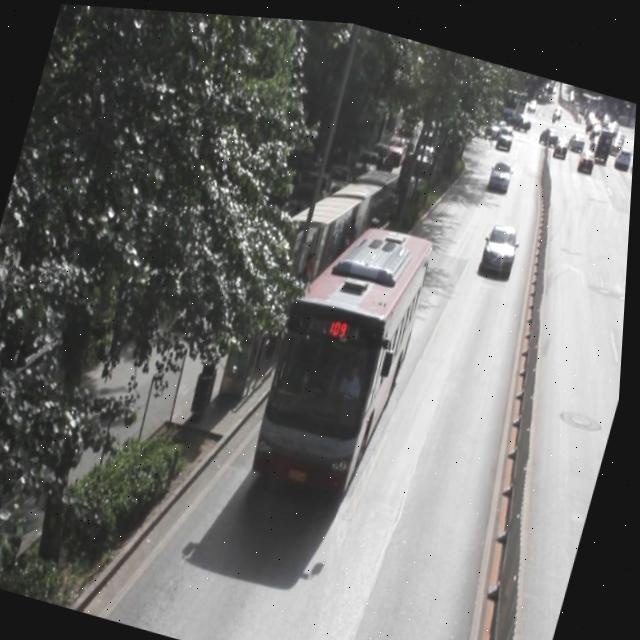car: (480, 211, 523, 266), (487, 149, 515, 185)
van: (252, 199, 436, 497)
